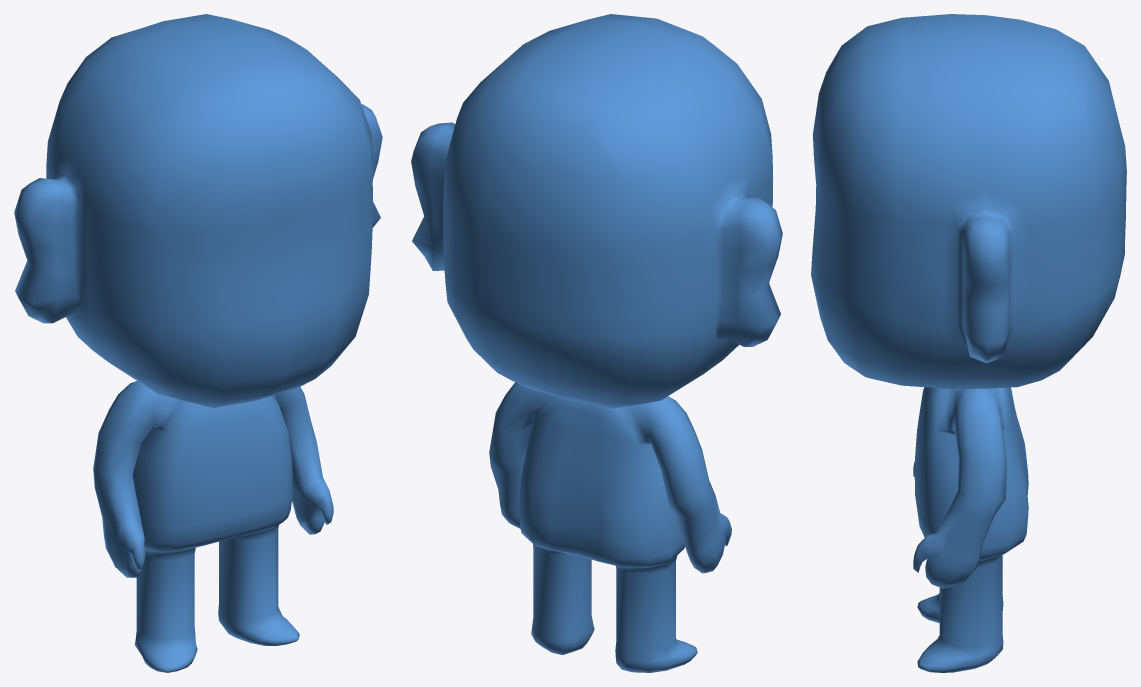
File: StickMan 09.fbx
The picture shows the model from 3 angles, left to right: view 1: azimuth 30°, elevation 25°; view 2: azimuth 150°, elevation 25°; view 3: azimuth 270°, elevation 25°; orthographic projection.
Parts seen in each view (by area): view 1: Character; view 2: Character; view 3: Character.
Boxes of the visible parts, x1=… form: Character: x1=14, y1=14, x2=382, y2=672; Character: x1=411, y1=14, x2=782, y2=672; Character: x1=811, y1=14, x2=1126, y2=672.
Bounding box in the file's own units: 60 × 95 × 45.
